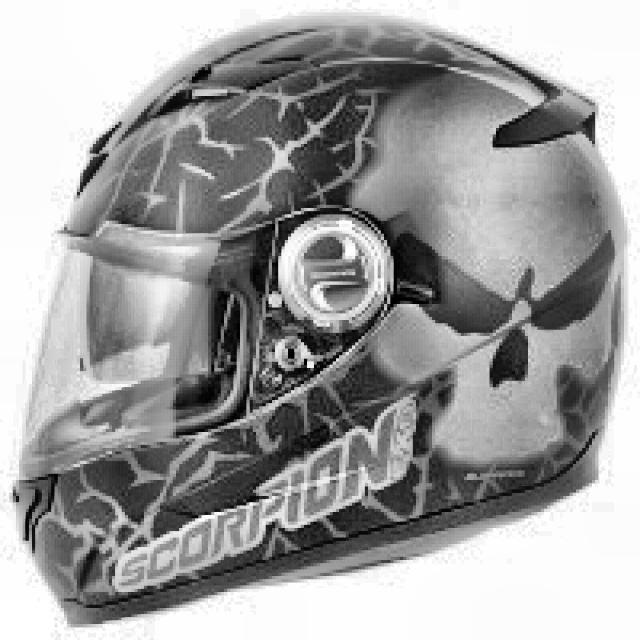Helmet: (22, 12, 624, 624)
